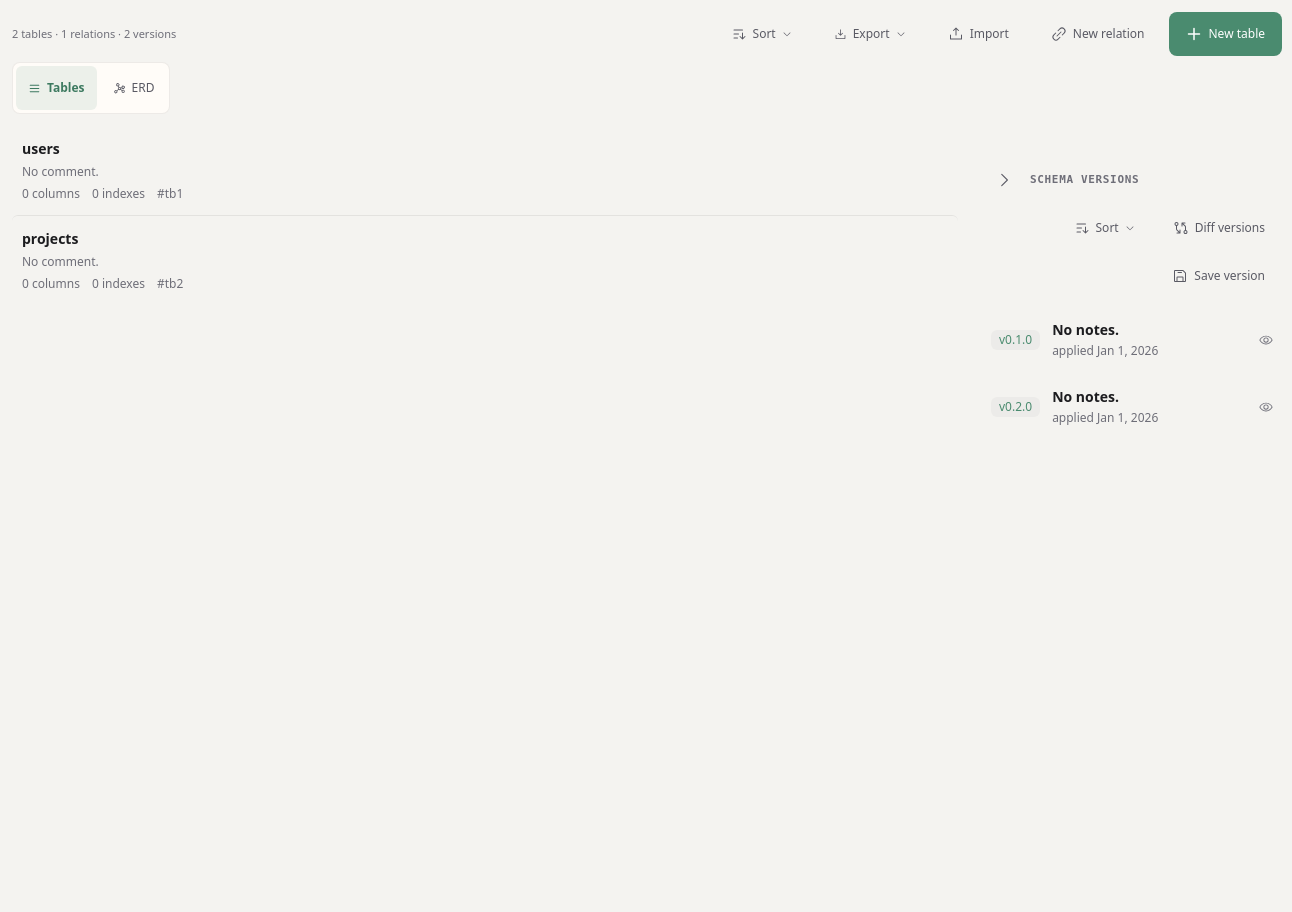
Scenario: SchemaPage › keeps the versions panel visible in both sub-views
Check: the element that starts with "users" is shown, box [12, 126, 1282, 442]
Check: the element named "Schema versions" shows "Schema versions", box [1030, 173, 1139, 186]
Click the tab "ERD": (134, 88) [101, 66, 166, 110]
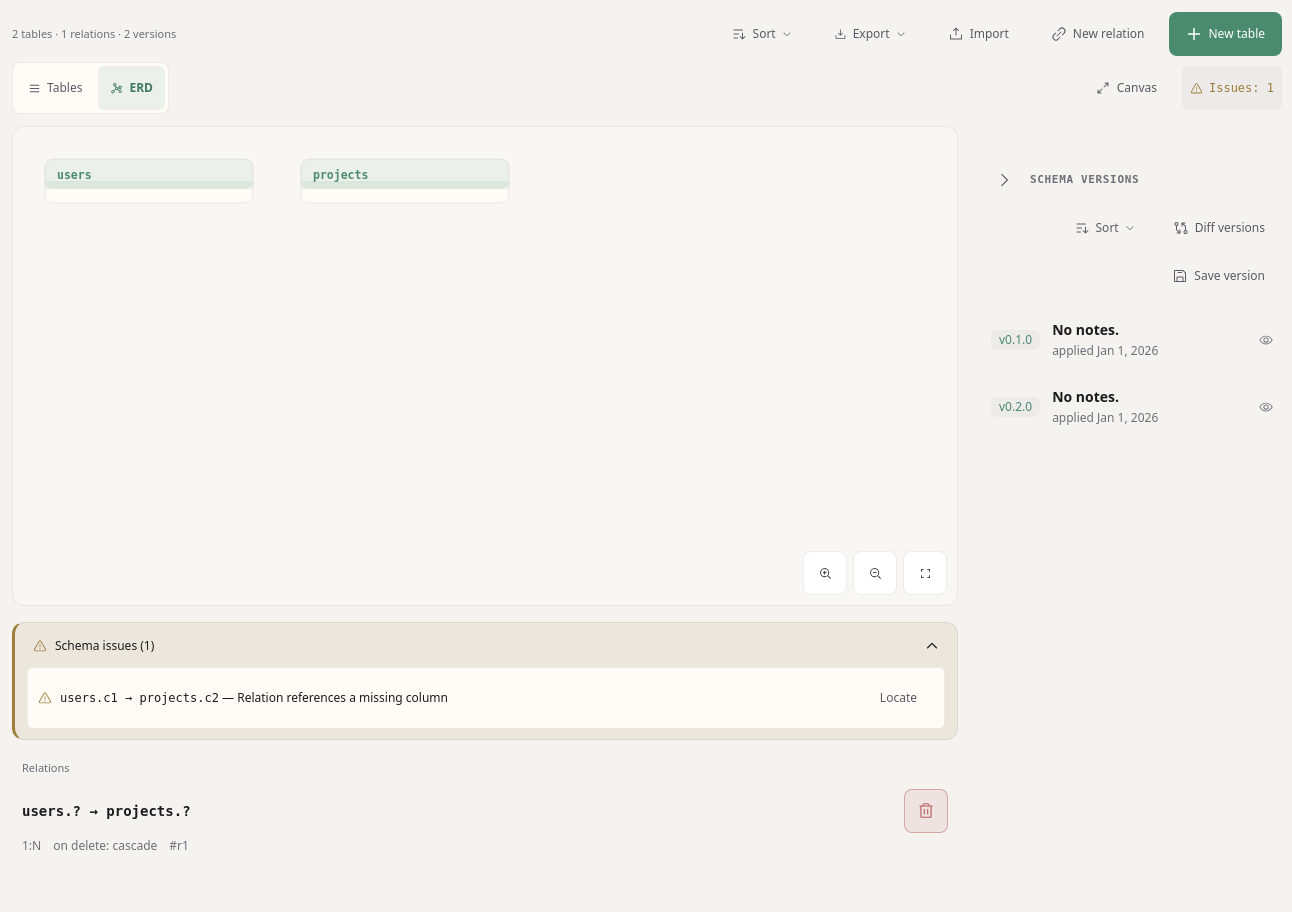
Check: the element named "Schema versions" shows "Schema versions", box [1030, 173, 1139, 186]
Check: the icon "users projects" is shown, box [13, 127, 957, 605]
